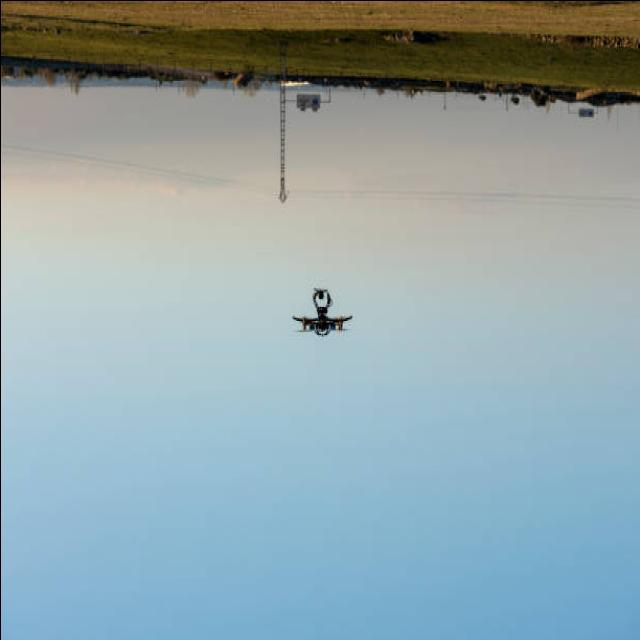drone: (292, 287, 352, 337)
